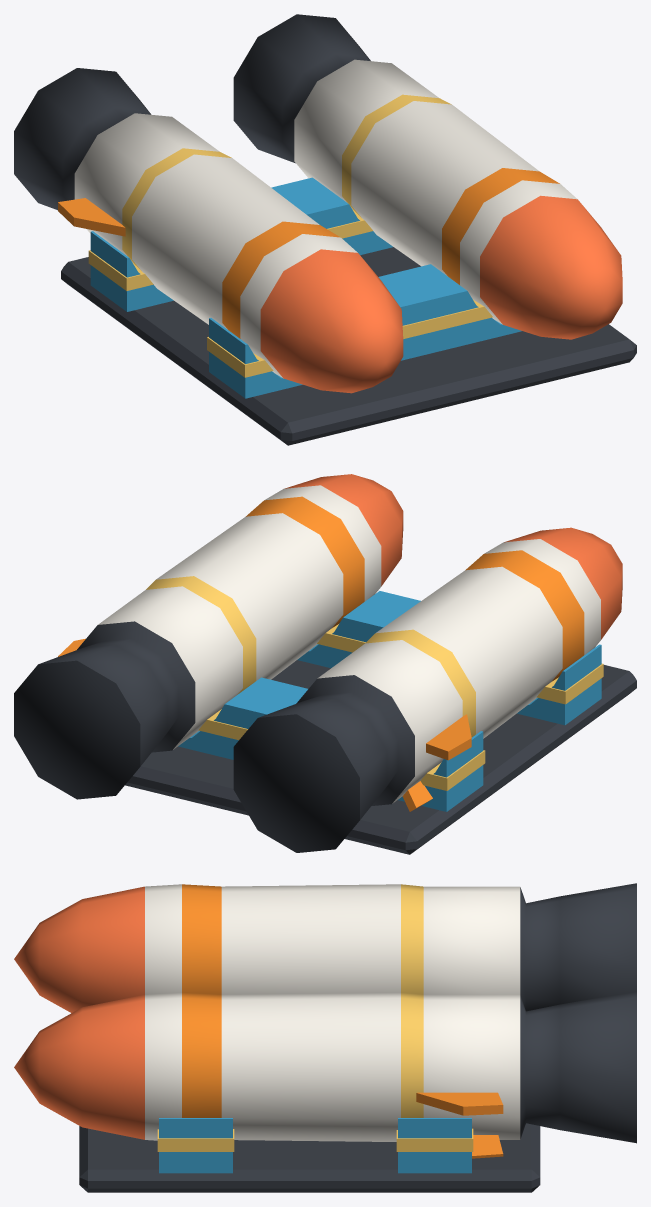
The model's file is rocket-unit.glb.
The picture shows the model from 3 angles, top to bottom: view 1: azimuth 30°, elevation 25°; view 2: azimuth 150°, elevation 25°; view 3: azimuth 270°, elevation 25°; orthographic projection.
Visible parts, largest first — view 1: rocket-unit; view 2: rocket-unit; view 3: rocket-unit.
Boxes of the visible parts, x1,y1,x2,y2 form: rocket-unit: (14, 14, 636, 445); rocket-unit: (14, 474, 636, 854); rocket-unit: (14, 883, 636, 1192).
Size of the model in its own units: 1.63 by 0.642 by 2.19.
